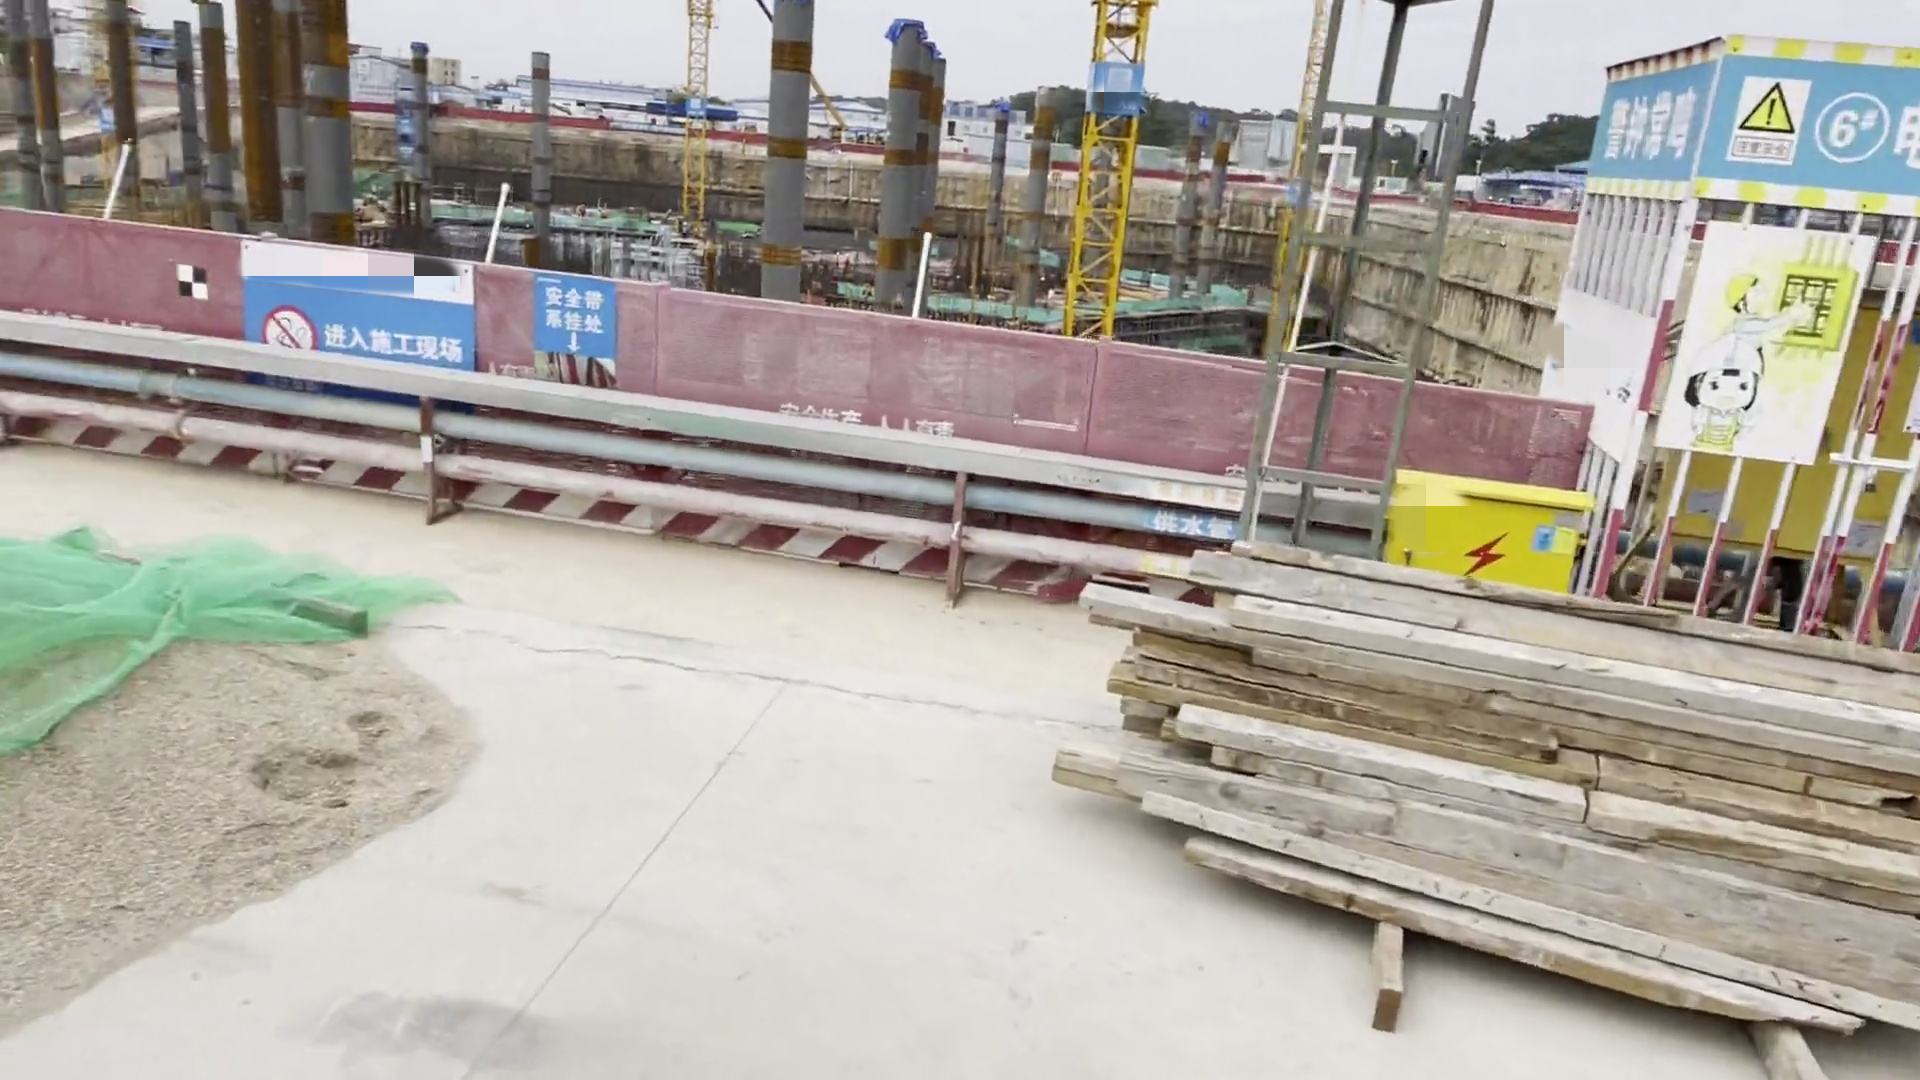ebox: (1596, 295, 1920, 647), (1383, 467, 1593, 593)
fence: (1, 204, 1262, 612)
slogan: (233, 233, 483, 372), (1584, 32, 1726, 190)
wood: (1046, 539, 1920, 1033)
